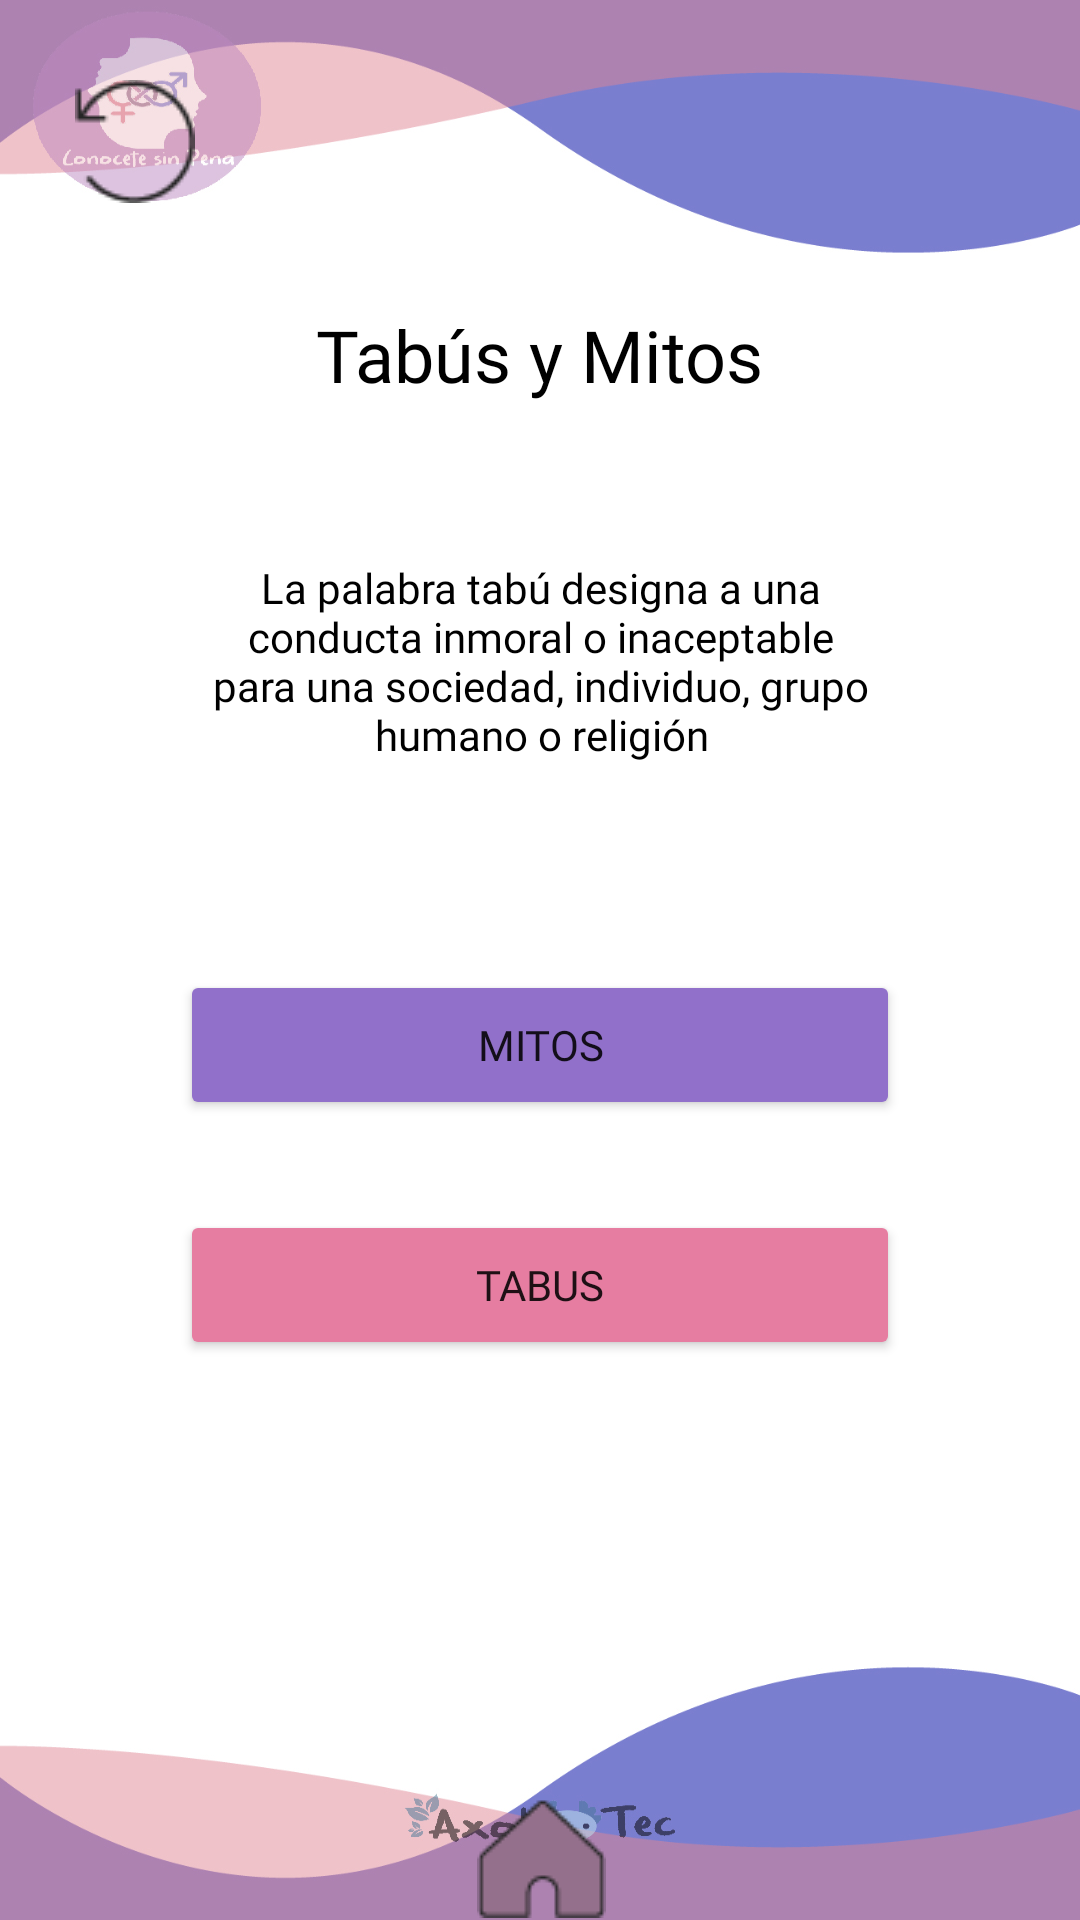

Where to tap for icons on this 1080px×1920px app screen, as point (x, y):
btnretorno: point (135, 141)
